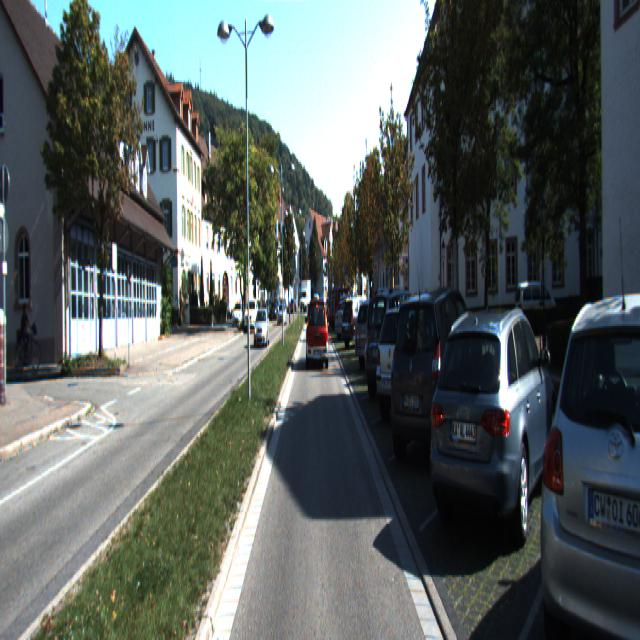Car: (538, 282, 639, 638), (425, 303, 560, 562), (387, 287, 488, 478), (373, 296, 460, 428), (362, 287, 434, 402), (353, 298, 407, 368), (341, 296, 381, 346), (307, 298, 329, 368), (334, 297, 366, 338), (329, 288, 356, 329), (254, 309, 271, 348), (244, 300, 259, 334), (232, 302, 242, 328)
